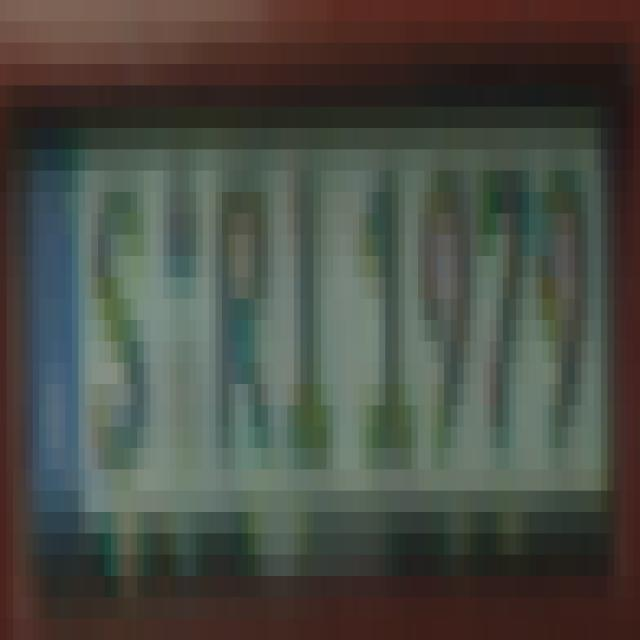Autre: (26, 136, 616, 556)
